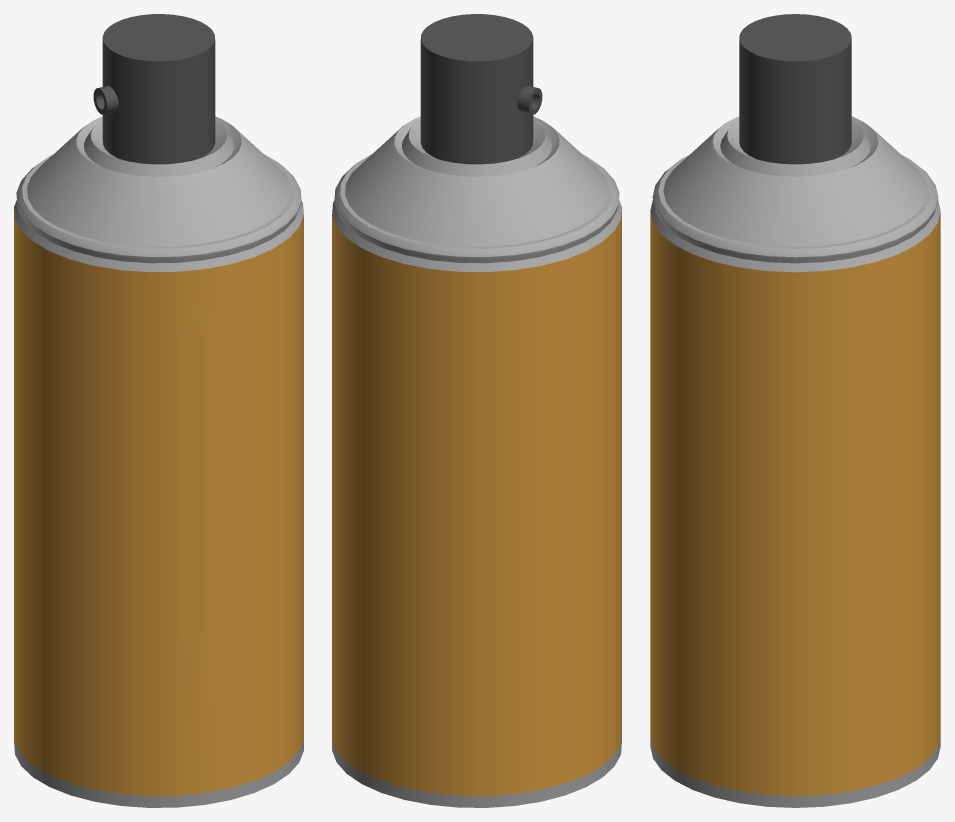
The model's file is Spray.fbx.
3 renders of one model, left to right at view 1: azimuth 30°, elevation 25°; view 2: azimuth 150°, elevation 25°; view 3: azimuth 270°, elevation 25°, orthographic.
Visible parts, largest first — view 1: Cylinder.001, Cylinder.002, Cylinder.003, Cylinder.004; view 2: Cylinder.001, Cylinder.002, Cylinder.003, Cylinder.004; view 3: Cylinder.001, Cylinder.002, Cylinder.003, Cylinder.004.
Part boxes in pixels (x1,y1,x2,y2): Cylinder.001: [14, 208, 303, 795]; Cylinder.002: [14, 116, 303, 272]; Cylinder.003: [93, 14, 215, 164]; Cylinder.004: [14, 732, 303, 807]; Cylinder.001: [332, 208, 621, 795]; Cylinder.002: [332, 116, 621, 272]; Cylinder.003: [420, 14, 542, 164]; Cylinder.004: [332, 732, 621, 807]; Cylinder.001: [650, 212, 940, 795]; Cylinder.002: [650, 116, 940, 272]; Cylinder.003: [739, 14, 851, 164]; Cylinder.004: [650, 736, 940, 807].
Size of the model in its own units: 149 by 402 by 149.
